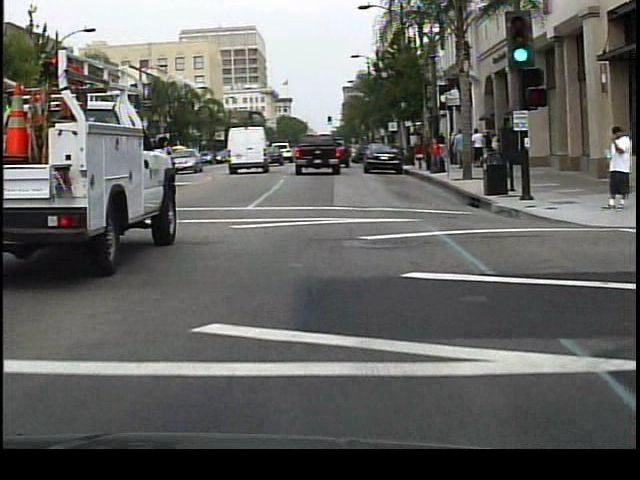person: (598, 124, 632, 209), (423, 136, 445, 178)
